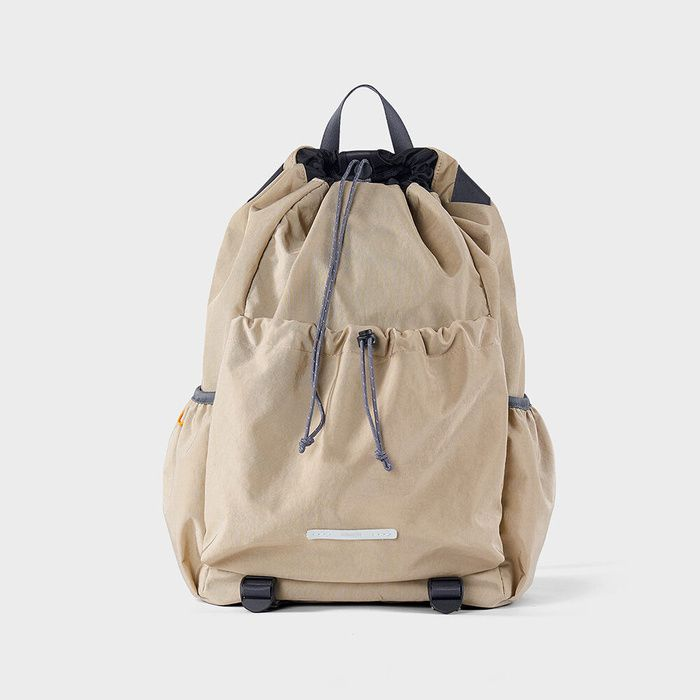nylon: (164, 148, 555, 612)
